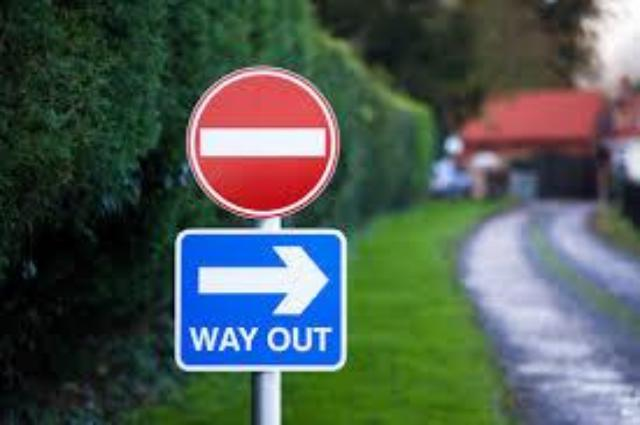B2: (182, 61, 342, 219)
